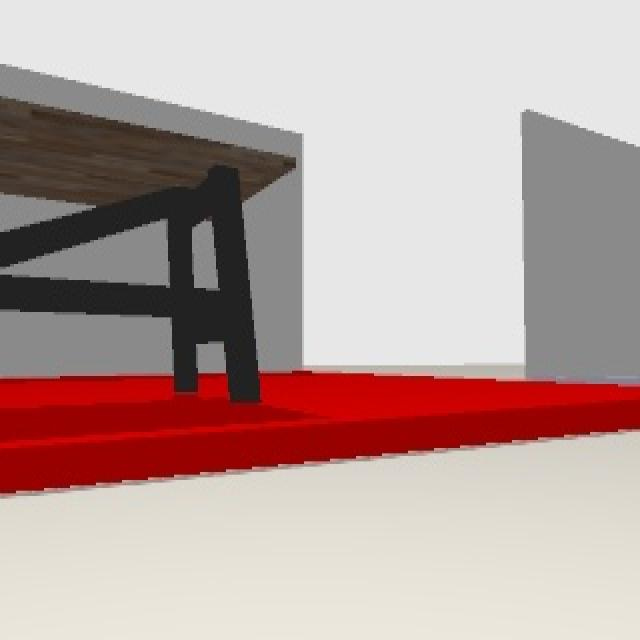dining: (2, 95, 297, 403)
